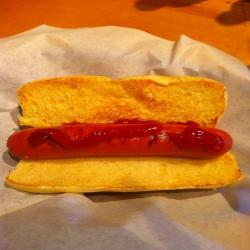hotdog: (4, 70, 250, 204)
